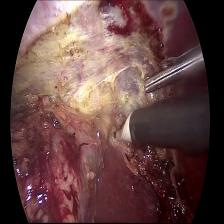Grasper: (140, 40, 203, 98)
Hook: (112, 109, 135, 154)
